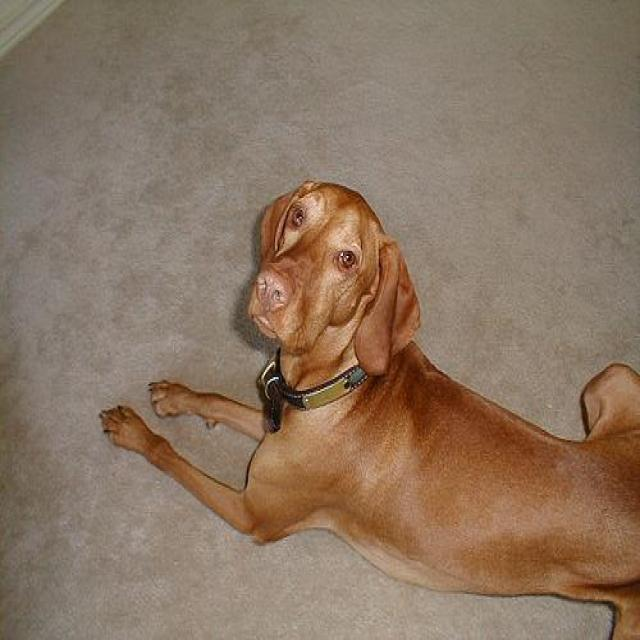vizsla: (99, 179, 638, 638)
